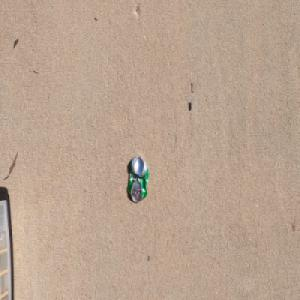SodaCan: (126, 154, 150, 203)
